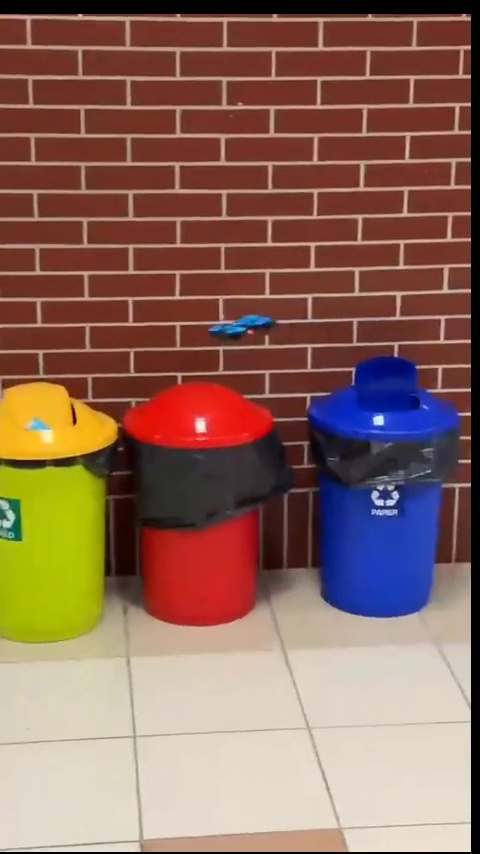drone: (213, 316, 277, 349)
